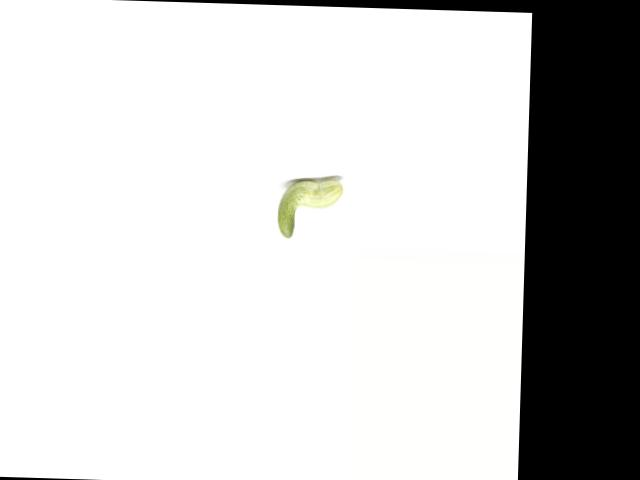cucumber: (276, 177, 342, 239)
